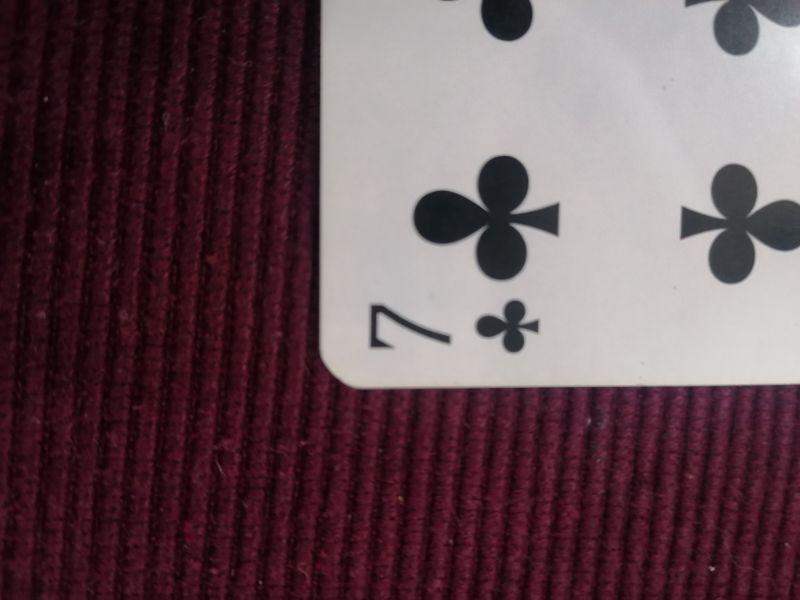7c: (364, 290, 545, 359)
